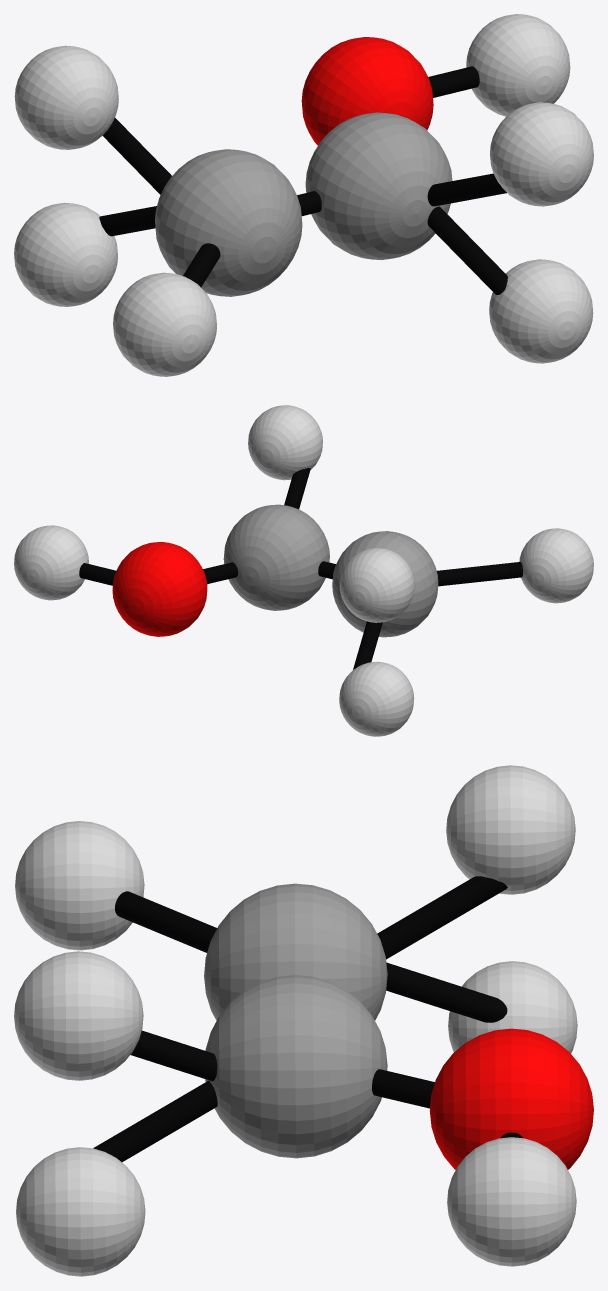
Rendered from EthanolScene.dae.
3 views of the same model, one above another, from view 1: azimuth 30°, elevation 25°; view 2: azimuth 150°, elevation 25°; view 3: azimuth 270°, elevation 25° (orthographic). The views are drawn at different scales.
Parts seen in each view (by area): view 1: CarbonNode1, CarbonNode2, OxygenNode1, HydrogenNode5, HydrogenNode6, HydrogenNode4, HydrogenNode3, HydrogenNode2, HydrogenNode1, Bond3, Bond4, Bond2 (+4 smaller); view 2: CarbonNode2, OxygenNode1, HydrogenNode5, HydrogenNode3, HydrogenNode4, CarbonNode1, HydrogenNode6, HydrogenNode1, Bond6, Bond5, Bond2, Bond8 (+1 smaller); view 3: CarbonNode2, OxygenNode1, CarbonNode1, HydrogenNode1, HydrogenNode2, HydrogenNode6, HydrogenNode5, HydrogenNode4, HydrogenNode3, Bond4, Bond3, Bond5 (+3 smaller).
Part boxes in pixels (<box>): CarbonNode1: <box>155,149,302,296</box>; CarbonNode2: <box>305,112,452,259</box>; OxygenNode1: <box>301,37,433,145</box>; HydrogenNode5: <box>14,45,118,149</box>; HydrogenNode6: <box>490,102,593,206</box>; HydrogenNode4: <box>113,272,216,376</box>; HydrogenNode3: <box>14,202,117,306</box>; HydrogenNode2: <box>489,259,593,363</box>; HydrogenNode1: <box>466,14,570,116</box>; Bond3: <box>427,206,507,294</box>; Bond4: <box>102,118,171,194</box>; Bond2: <box>427,173,506,206</box>; CarbonNode2: <box>223,504,329,610</box>; OxygenNode1: <box>112,542,207,636</box>; HydrogenNode5: <box>339,547,414,622</box>; HydrogenNode3: <box>339,661,414,736</box>; HydrogenNode4: <box>519,528,593,603</box>; CarbonNode1: <box>332,531,438,637</box>; HydrogenNode6: <box>248,405,322,480</box>; HydrogenNode1: <box>14,525,88,600</box>; Bond6: <box>437,562,522,586</box>; Bond5: <box>353,621,382,669</box>; Bond2: <box>284,468,310,509</box>; Bond8: <box>79,563,115,585</box>; CarbonNode2: <box>205,975,387,1158</box>; OxygenNode1: <box>429,1028,593,1169</box>; CarbonNode1: <box>204,883,387,1020</box>; HydrogenNode1: <box>447,1137,576,1266</box>; HydrogenNode2: <box>16,1147,145,1276</box>; HydrogenNode6: <box>14,951,143,1080</box>; HydrogenNode5: <box>446,765,575,894</box>; HydrogenNode4: <box>15,821,144,950</box>; HydrogenNode3: <box>448,961,577,1053</box>; Bond4: <box>377,876,507,959</box>; Bond3: <box>93,1080,217,1162</box>; Bond5: <box>386,962,507,1022</box>.
Size of the model in its own units: 16.4 by 10.74 by 6.47.
